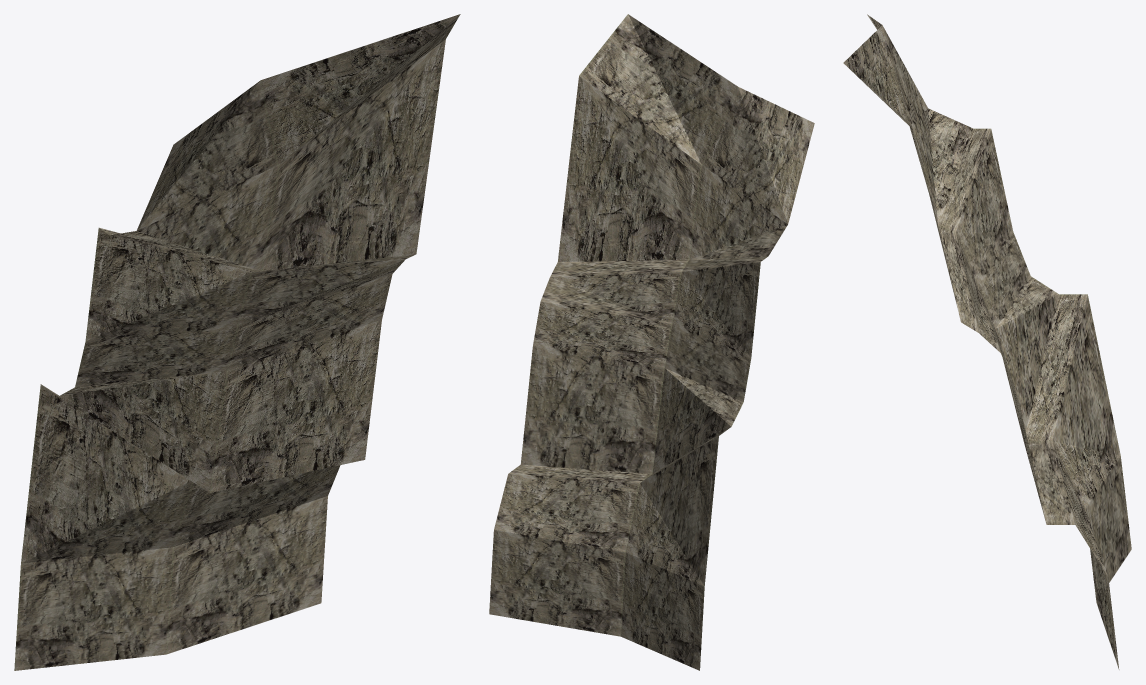
File: land2_sfn20.obj
3 views of the same model, side by side, from view 1: azimuth 30°, elevation 25°; view 2: azimuth 150°, elevation 25°; view 3: azimuth 270°, elevation 25° (orthographic). The views are drawn at different scales.
Visible parts, largest first — view 1: land2_sfN20; view 2: land2_sfN20; view 3: land2_sfN20.
Boxes of the visible parts, x1=… form: land2_sfN20: x1=14, y1=14, x2=460, y2=670; land2_sfN20: x1=489, y1=14, x2=814, y2=670; land2_sfN20: x1=843, y1=14, x2=1131, y2=669.
Bounding box in the file's own units: 181 × 415 × 182.
2 materials, 2 textured.
